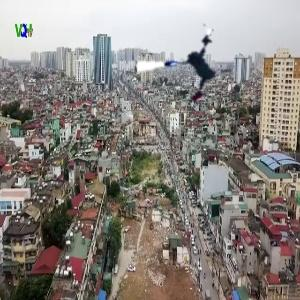drone: (136, 24, 240, 128)
